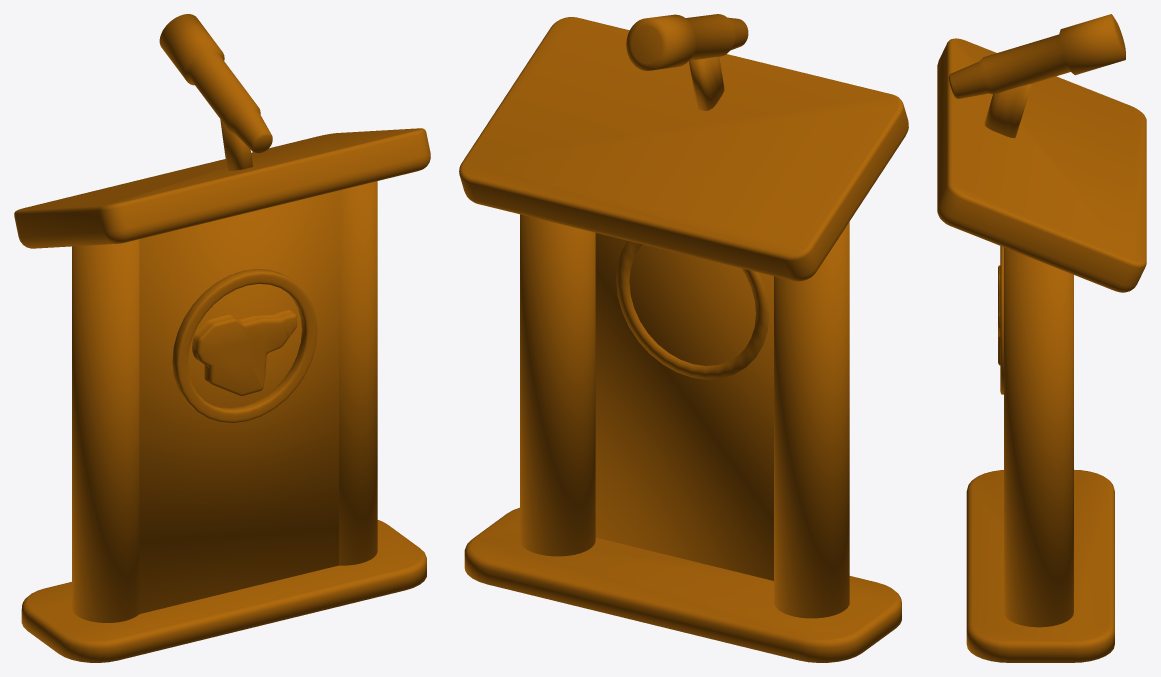
The model's file is Podium.fbx.
3 renders of one model, left to right at view 1: azimuth 30°, elevation 25°; view 2: azimuth 150°, elevation 25°; view 3: azimuth 270°, elevation 25°, orthographic. The views are drawn at different scales.
Parts seen in each view (by area): view 1: Podium; view 2: Podium; view 3: Podium.
Boxes of the visible parts, <box> form: Podium: <box>14,14,430,662</box>; Podium: <box>459,14,908,662</box>; Podium: <box>937,14,1146,662</box>.
Bounding box in the file's own units: 155 × 228 × 78.05.
